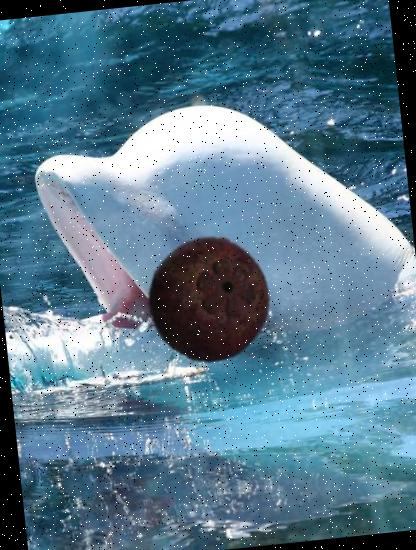Mangostan: (138, 228, 280, 370)
Peach: (183, 241, 261, 319)
